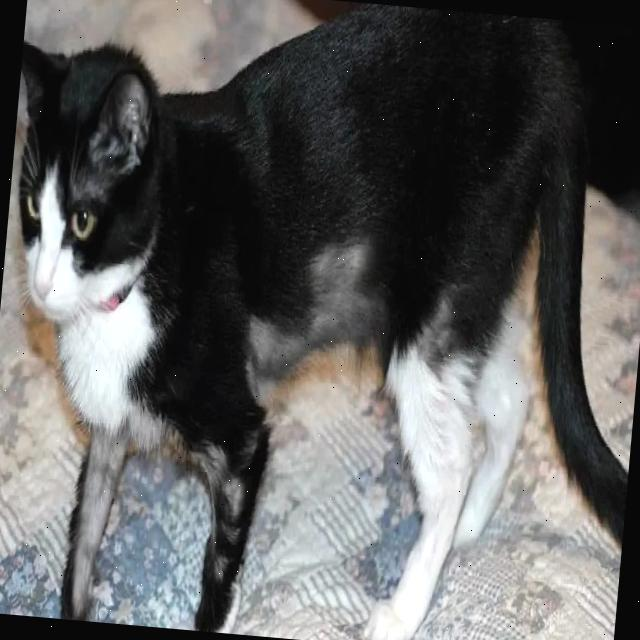cat-hairloss: (312, 254, 363, 334), (255, 326, 292, 366)
